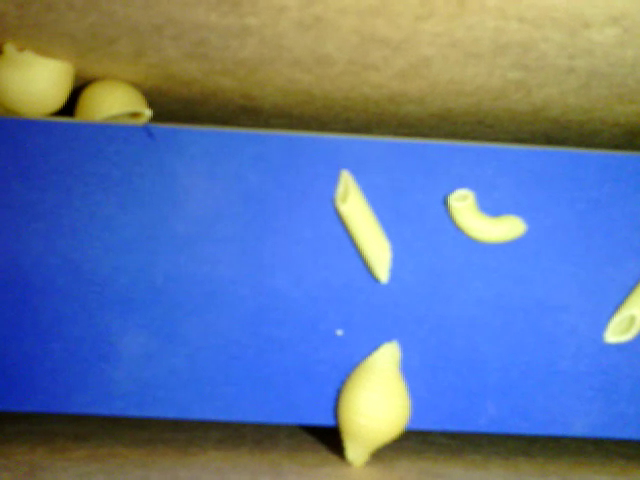elbow: (447, 188, 527, 243)
penne: (334, 169, 394, 284), (603, 282, 639, 343)
shell: (336, 340, 411, 468), (1, 42, 74, 118), (74, 79, 153, 121)
